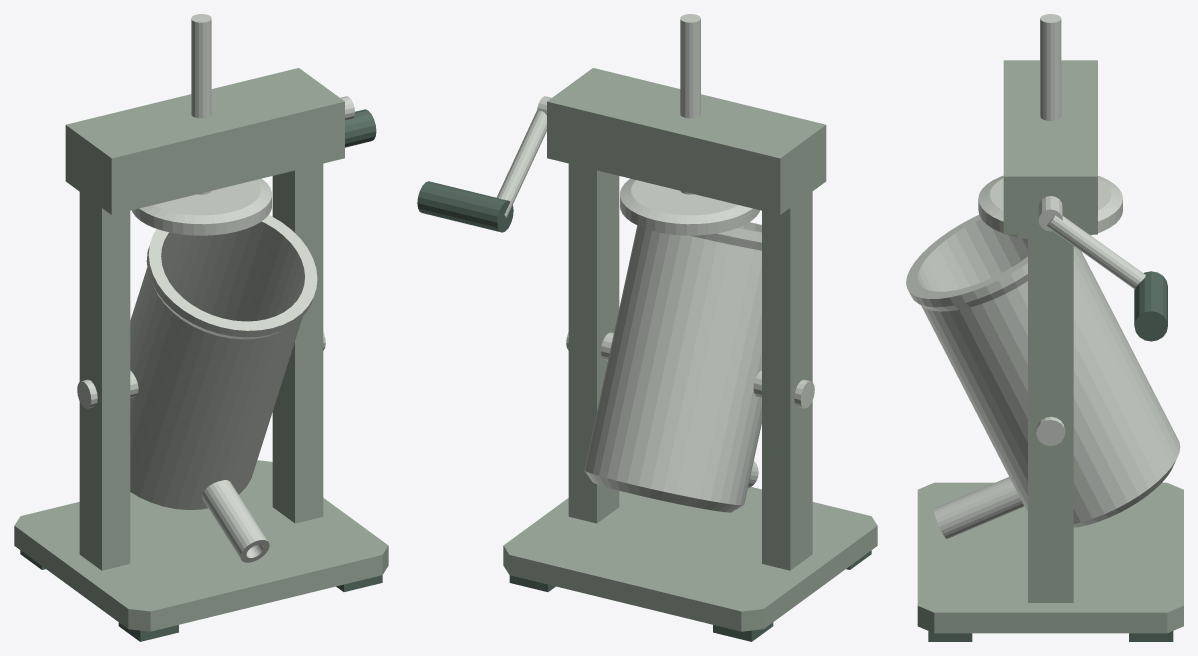
The picture shows the model from 3 angles, left to right: view 1: azimuth 30°, elevation 25°; view 2: azimuth 150°, elevation 25°; view 3: azimuth 270°, elevation 25°; orthographic projection. The views are drawn at different scales.
Visible parts, largest first — view 1: WholeTiltedDeepOpenCylinder, WholeBroadLowMachineBase, WholeTopEnclosedCrankHead, WholeSideUpright_-0.15, WholeSideUpright_0.15, WholeRaisedRoundPressurePlaten, WholeShortOpenEndedOutletSleeve, WholeRaisedPlatenVerticalStem, WholeSeparateCrankHandGrip, WholeSideCylinderTrunnion_-1; view 2: WholeTiltedDeepOpenCylinder, WholeBroadLowMachineBase, WholeTopEnclosedCrankHead, WholeSideUpright_-0.15, WholeSideUpright_0.15, WholeRaisedRoundPressurePlaten, WholeSeparateCrankHandGrip, WholeRaisedPlatenVerticalStem, WholeOffsetSideCrank, WholeSideCylinderTrunnion_-1; view 3: WholeTiltedDeepOpenCylinder, WholeBroadLowMachineBase, WholeSideUpright_0.15, WholeTopEnclosedCrankHead, WholeShortOpenEndedOutletSleeve, WholeRaisedRoundPressurePlaten, WholeRaisedPlatenVerticalStem, WholeSeparateCrankHandGrip, WholeOffsetSideCrank, WholeSideCylinderTrunnion_1, WholeCrankDriveStub, WholeGroundPad_(0.158, -0.132) (+1 smaller).
Part boxes in pixels (box(x1,y1,x2,y2)): WholeTiltedDeepOpenCylinder: box(130, 215, 317, 509); WholeBroadLowMachineBase: box(14, 460, 388, 631); WholeTopEnclosedCrankHead: box(65, 68, 344, 214); WholeSideUpright_-0.15: box(79, 192, 130, 570); WholeSideUpright_0.15: box(272, 163, 323, 523); WholeRaisedRoundPressurePlaten: box(132, 178, 271, 235); WholeShortOpenEndedOutletSleeve: box(202, 480, 269, 562); WholeRaisedPlatenVerticalStem: box(191, 14, 211, 194); WholeSeparateCrankHandGrip: box(345, 109, 376, 147); WholeSideCylinderTrunnion_-1: box(77, 370, 138, 408); WholeTiltedDeepOpenCylinder: box(584, 222, 761, 512); WholeBroadLowMachineBase: box(503, 487, 877, 631); WholeTopEnclosedCrankHead: box(547, 68, 826, 214); WholeSideUpright_-0.15: box(762, 191, 812, 570); WholeSideUpright_0.15: box(568, 163, 619, 523); WholeRaisedRoundPressurePlaten: box(620, 178, 759, 235); WholeSeparateCrankHandGrip: box(417, 181, 513, 232); WholeRaisedPlatenVerticalStem: box(680, 14, 700, 194); WholeOffsetSideCrank: box(497, 110, 546, 217); WholeSideCylinderTrunnion_-1: box(753, 370, 814, 408); WholeTiltedDeepOpenCylinder: box(906, 215, 1180, 527); WholeBroadLowMachineBase: box(917, 482, 1183, 633); WholeSideUpright_0.15: box(1028, 234, 1073, 602); WholeTopEnclosedCrankHead: box(1003, 60, 1097, 234); WholeShortOpenEndedOutletSleeve: box(934, 477, 1024, 538); WholeRaisedRoundPressurePlaten: box(978, 175, 1122, 239); WholeRaisedPlatenVerticalStem: box(1040, 14, 1061, 120); WholeSeparateCrankHandGrip: box(1134, 271, 1167, 341); WholeOffsetSideCrank: box(1046, 215, 1145, 289); WholeSideCylinderTrunnion_1: box(1036, 416, 1065, 445); WholeCrankDriveStub: box(1038, 196, 1062, 231); WholeGroundPad_(0.158, -0.132): box(928, 631, 972, 641).
Bounding box in the file's own units: 0.537 × 0.816 × 0.3651.
